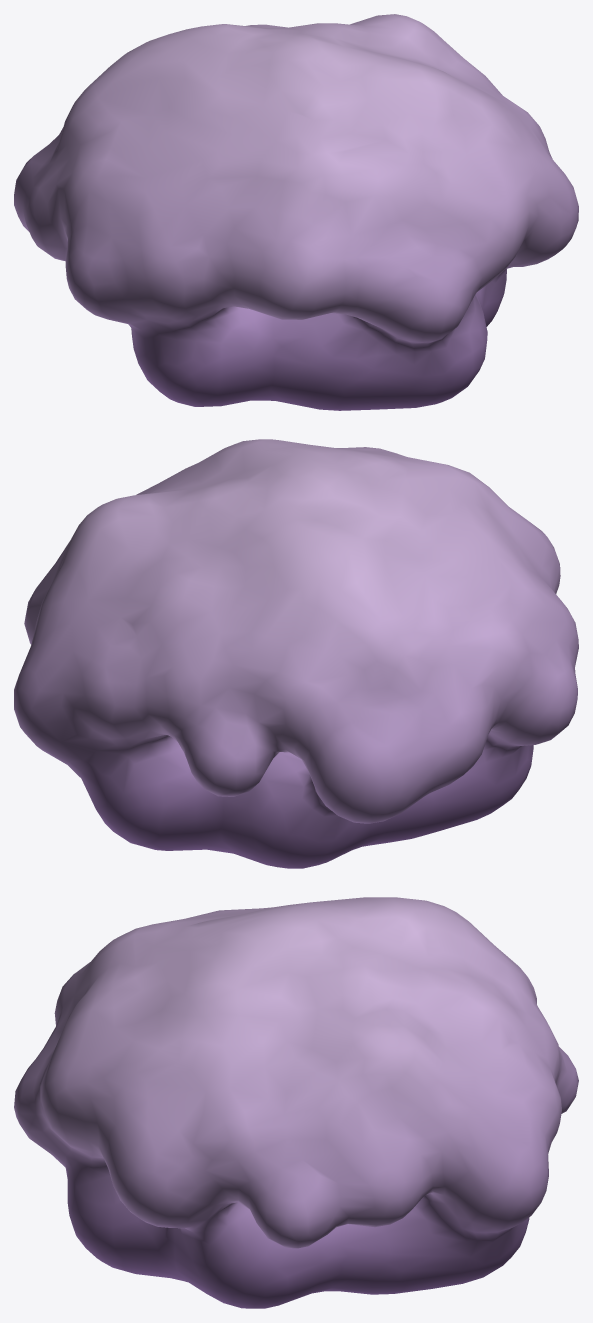
File: brain_lilac.glb
3 renders of one model, top to bottom at view 1: azimuth 30°, elevation 25°; view 2: azimuth 150°, elevation 25°; view 3: azimuth 270°, elevation 25°, orthographic. The views are drawn at different scales.
Visible parts, largest first — view 1: world; view 2: world; view 3: world.
Part boxes in pixels (x1,y1,x2,y2): world: [14, 14, 578, 410]; world: [14, 439, 578, 868]; world: [14, 897, 578, 1308].
Bounding box in the file's own units: 0.9635 × 0.627 × 0.9398.
